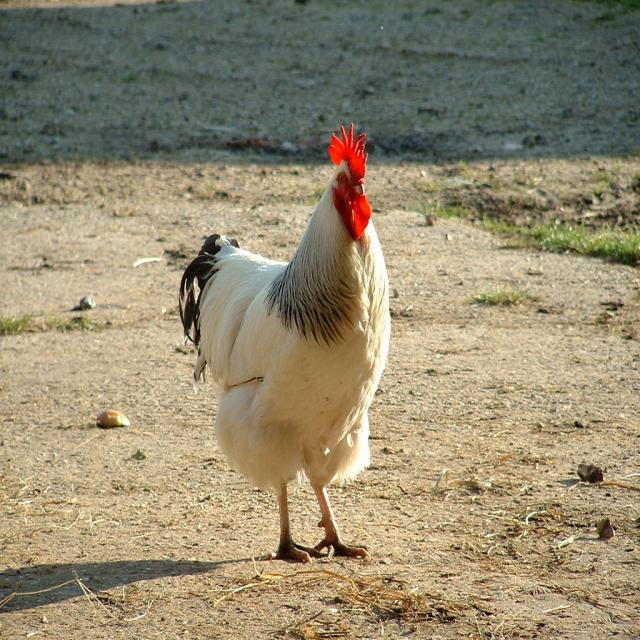Chicken: (174, 118, 392, 578)
